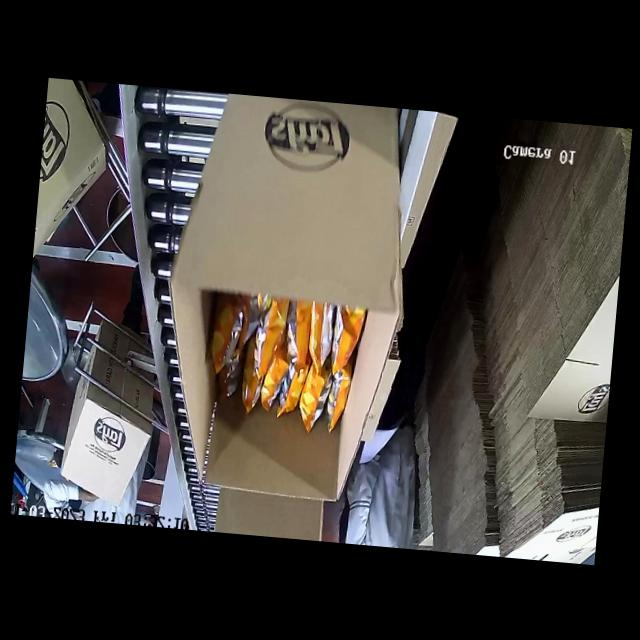cheese: (218, 276, 365, 431)
